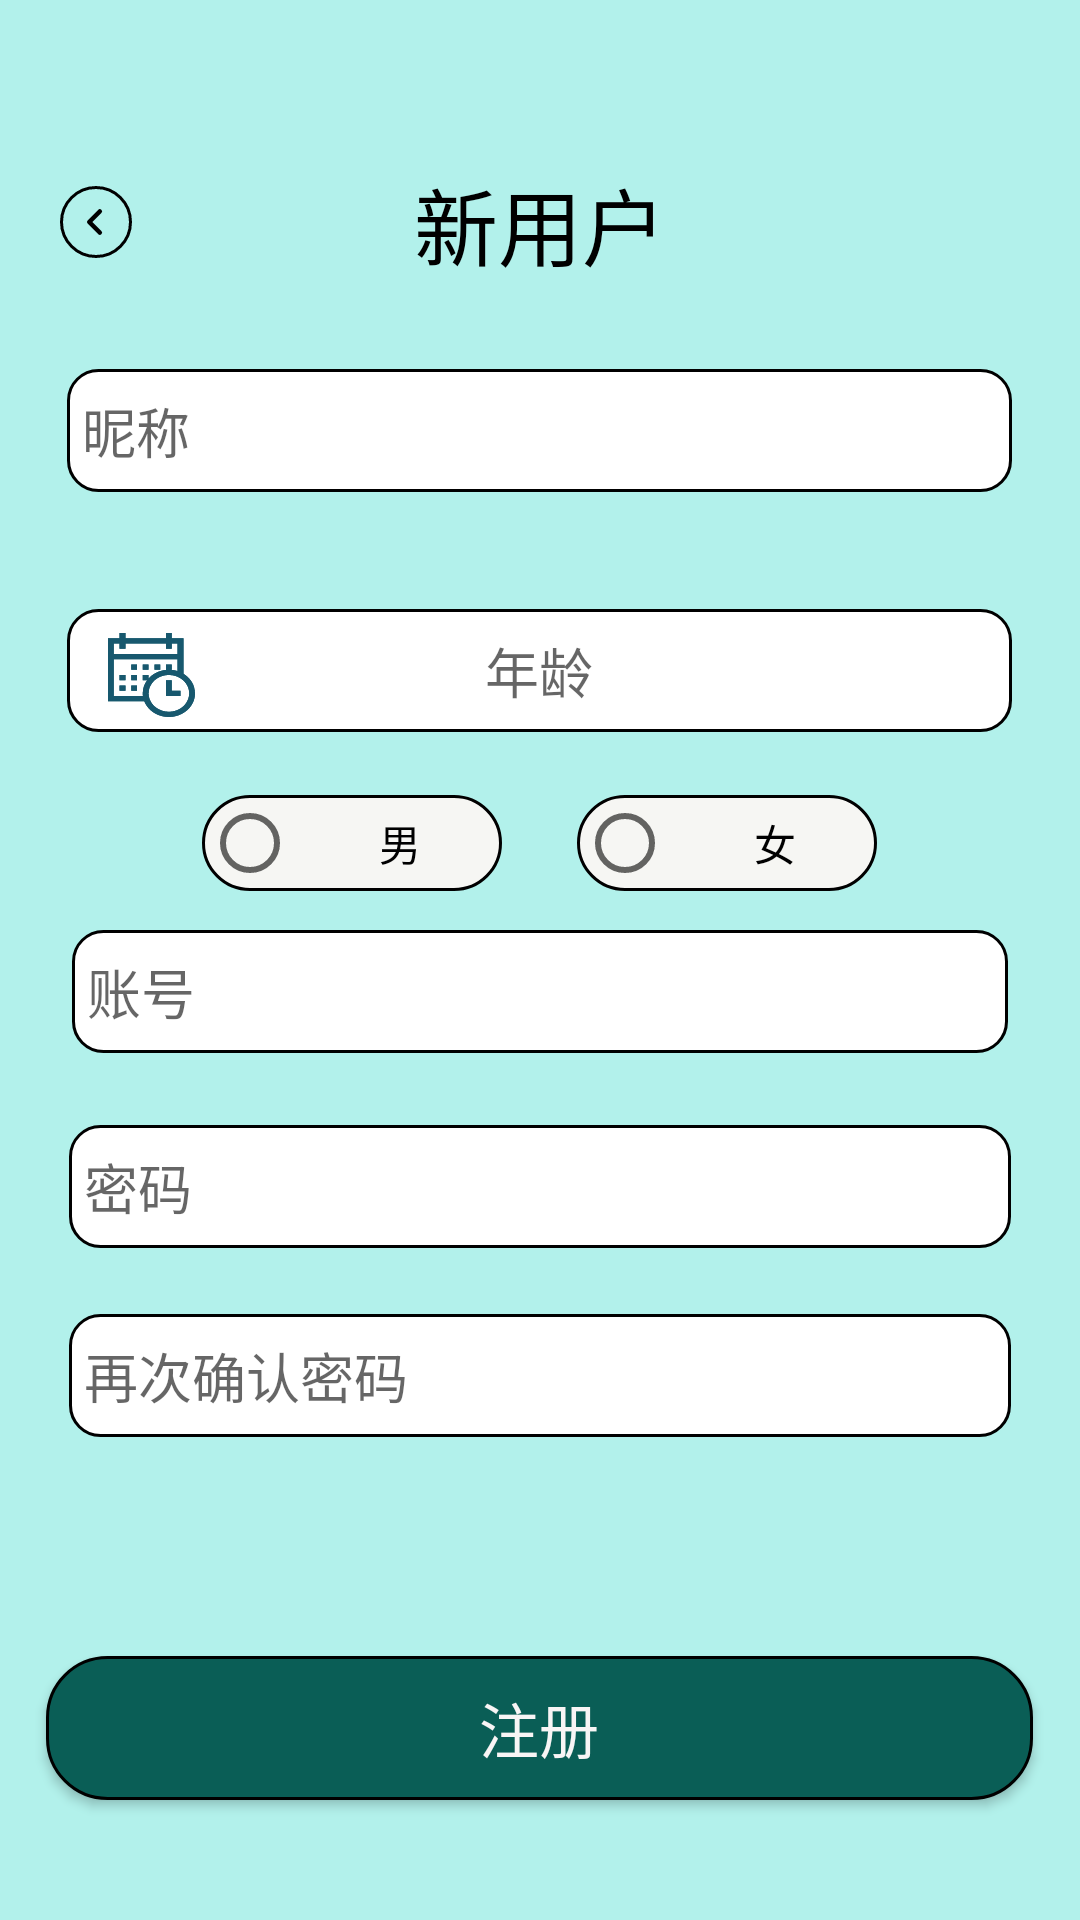

Screen size 1080w x 1920h. Icon name, then its center in pixels as (x,y):
arrow circle left: (96,222)
